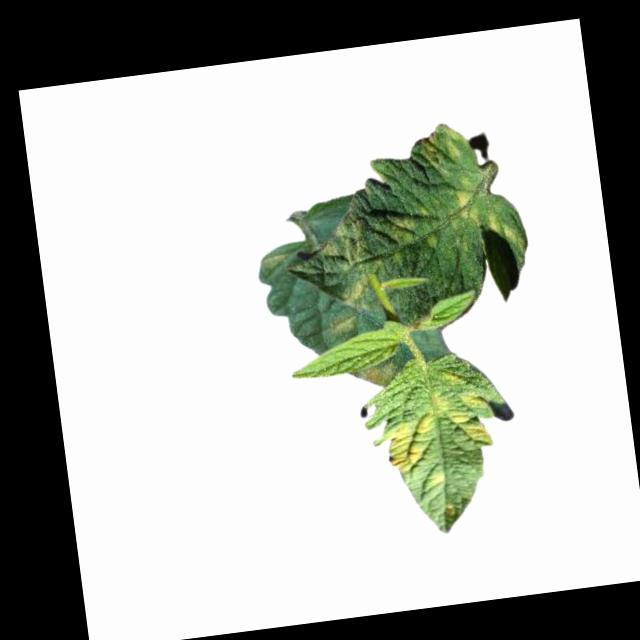Leaf_Mold: (431, 384, 496, 451), (382, 413, 437, 475), (416, 120, 469, 177), (312, 216, 370, 266), (351, 357, 403, 393), (452, 189, 486, 227), (385, 212, 421, 246), (338, 273, 372, 305), (325, 311, 362, 340), (257, 248, 287, 270), (427, 468, 448, 492), (440, 366, 463, 387), (486, 212, 503, 237)
